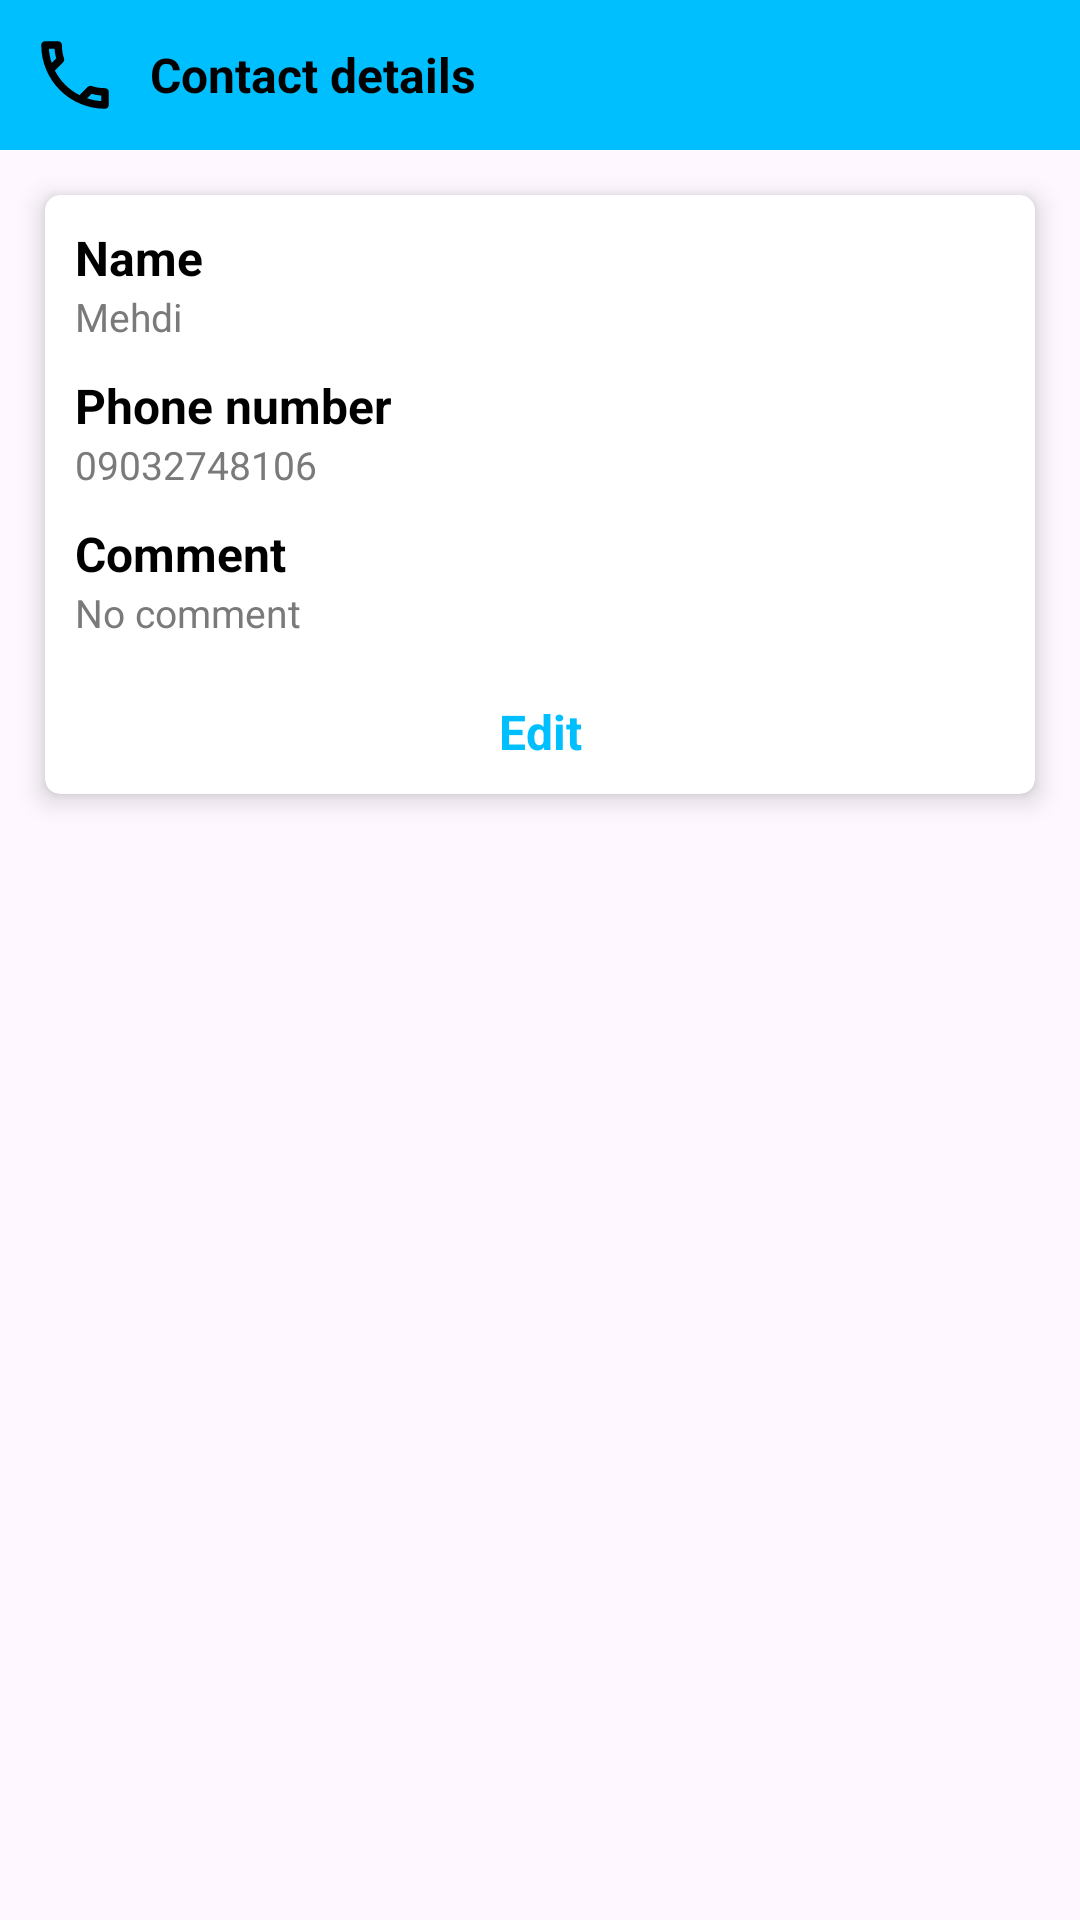

Icon bounding boxes for this 1080 x 1920 phone screenshot, format (x1, y1, x2, y2):
phone: (41, 41, 109, 109)
